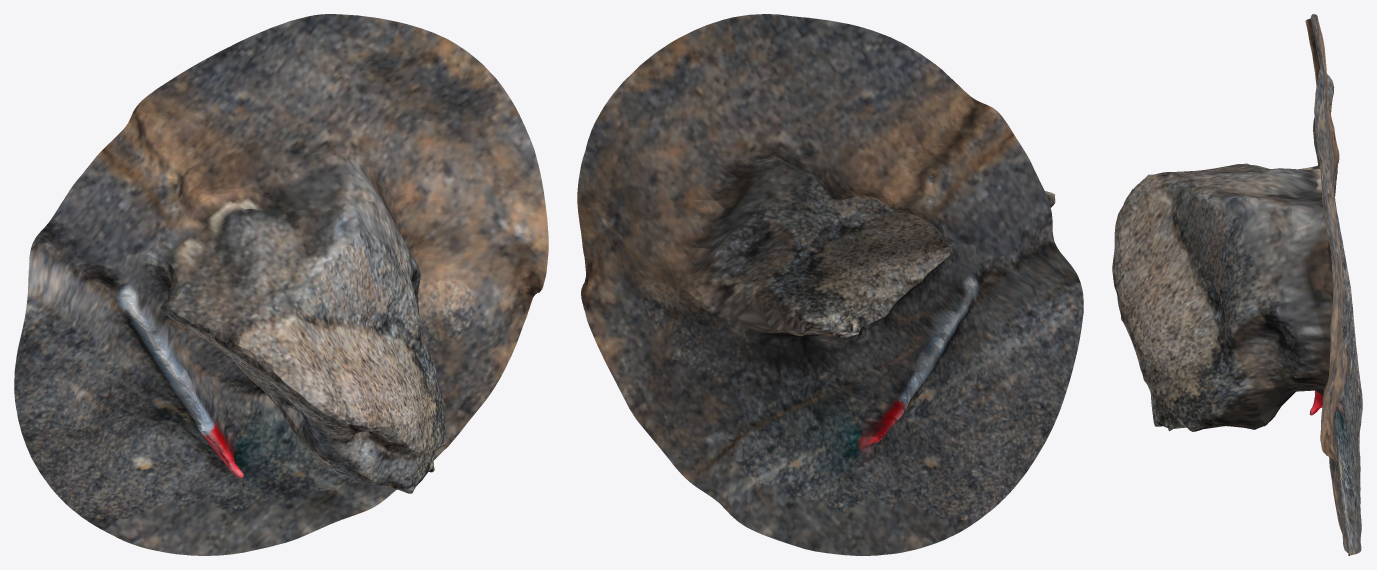
The model's file is gabbro.obj.
The picture shows the model from 3 angles, left to right: view 1: azimuth 30°, elevation 25°; view 2: azimuth 150°, elevation 25°; view 3: azimuth 270°, elevation 25°; orthographic projection. The views are drawn at different scales.
Parts seen in each view (by area): view 1: gabbro; view 2: gabbro; view 3: gabbro.
Part boxes in pixels (x1,y1,x2,y2): gabbro: (14,14,548,555); gabbro: (577,14,1083,555); gabbro: (1112,14,1362,555).
Size of the model in its own units: 1.46 by 1.43 by 0.6643.
Materials: 1 (1 with a texture image).
